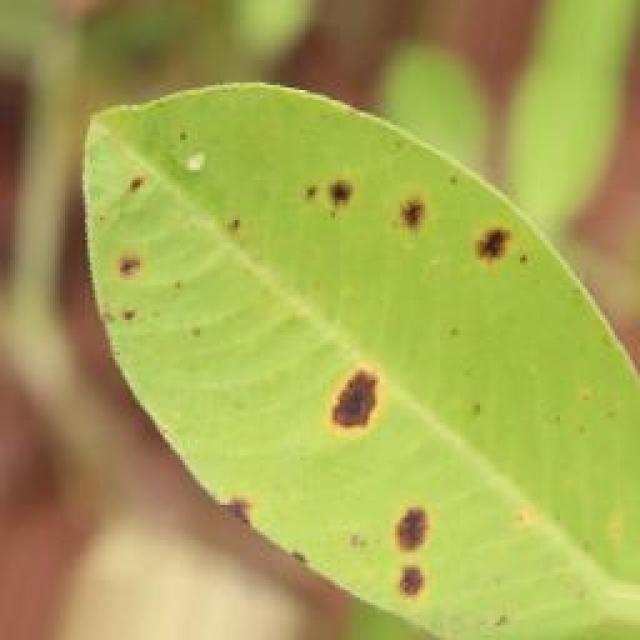Early_leaf_spot: (306, 178, 526, 284), (190, 464, 312, 588), (273, 337, 397, 437), (117, 168, 182, 299), (372, 486, 430, 596)
